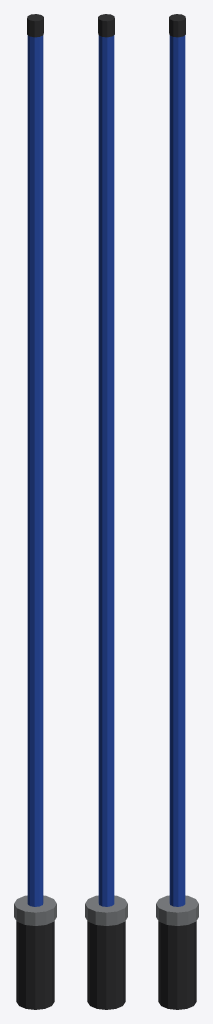
Rendered from pole-blue.glb.
The picture shows the model from 3 angles, left to right: view 1: azimuth 30°, elevation 25°; view 2: azimuth 150°, elevation 25°; view 3: azimuth 330°, elevation 25°; orthographic projection.
Visible parts, largest first — view 1: pole-blue; view 2: pole-blue; view 3: pole-blue.
Boxes of the visible parts, x1,y1,x2,y2 form: pole-blue: [14, 14, 56, 1009]; pole-blue: [85, 14, 127, 1009]; pole-blue: [156, 14, 198, 1009].
Bounding box in the file's own units: 0.072 × 1.83 × 0.072.
